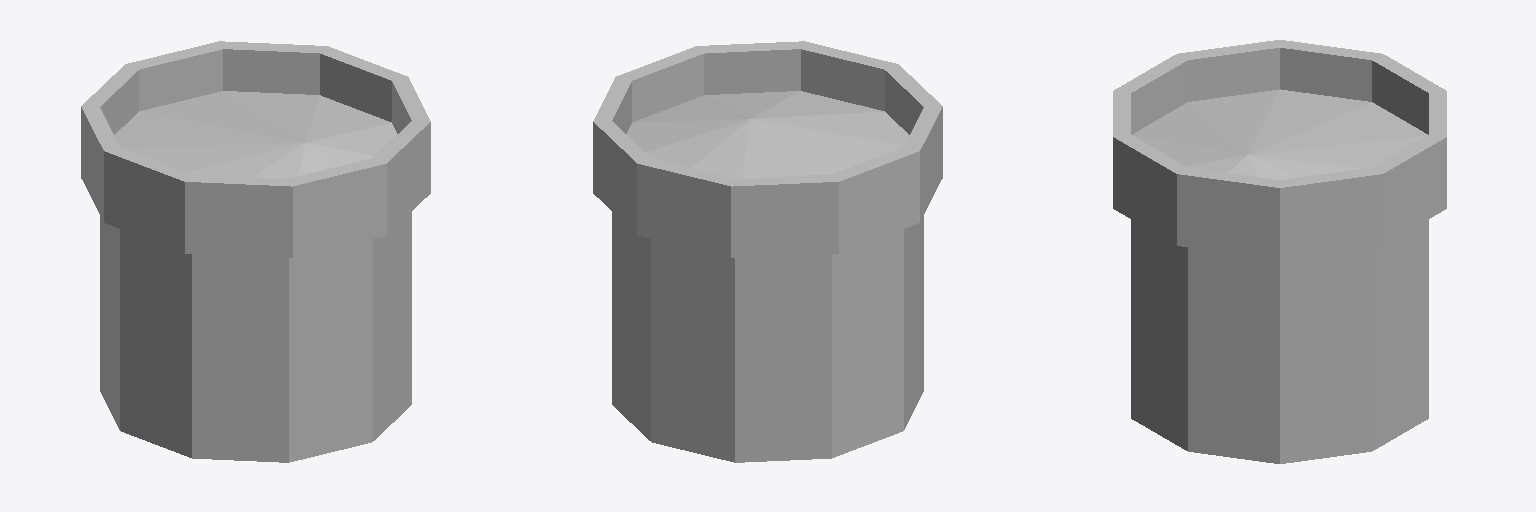
Rendered from trash.obj.
The picture shows the model from 3 angles: view 1: azimuth 30°, elevation 25°; view 2: azimuth 150°, elevation 25°; view 3: azimuth 270°, elevation 25°; orthographic projection.
Visible parts, largest first — view 1: pCylinder14; view 2: pCylinder14; view 3: pCylinder14.
Part boxes in pixels (bbox=[...]): pCylinder14: bbox=[81, 41, 430, 462]; pCylinder14: bbox=[593, 41, 942, 462]; pCylinder14: bbox=[1113, 40, 1446, 463].
Size of the model in its own units: 2.24 by 2 by 2.13.